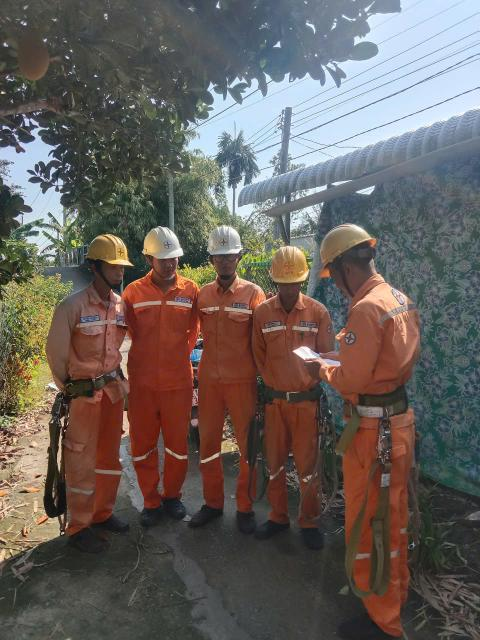harness: (341, 387, 416, 418), (254, 376, 326, 406), (58, 369, 133, 397)
helmet: (310, 220, 381, 283), (82, 231, 139, 276), (266, 245, 313, 293), (138, 225, 185, 271), (206, 222, 248, 260)
shoes: (338, 598, 404, 638), (65, 519, 107, 557), (294, 515, 327, 554), (90, 504, 130, 535), (160, 488, 193, 521), (194, 495, 225, 529), (232, 502, 257, 537), (262, 510, 291, 540), (140, 499, 165, 526)
